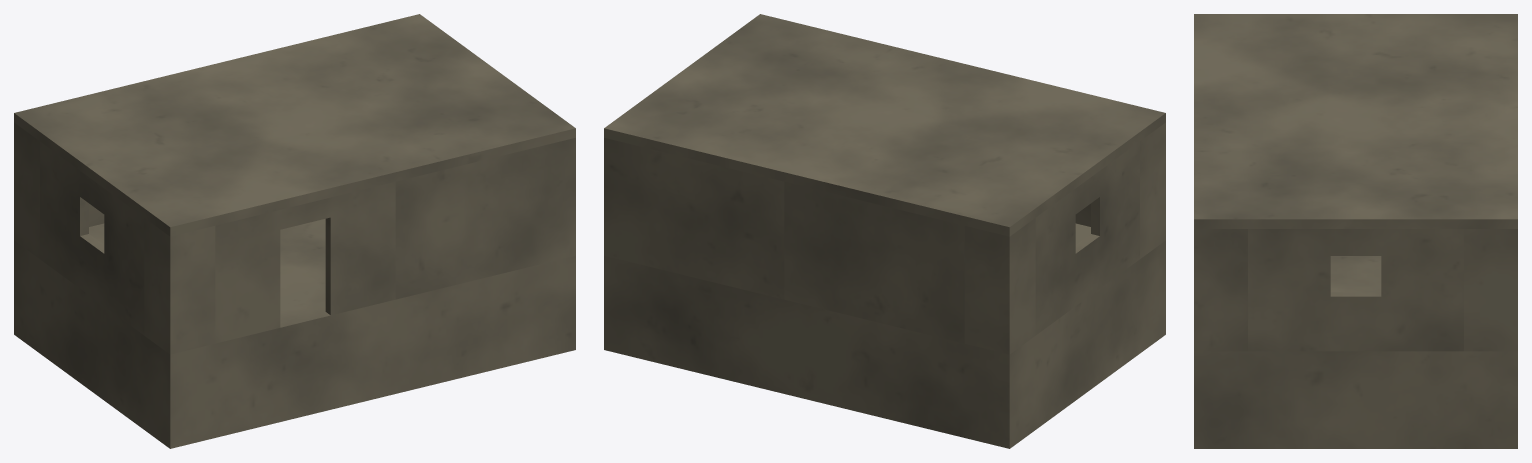
The model's file is House2 1.fbx.
The picture shows the model from 3 angles, left to right: view 1: azimuth 30°, elevation 25°; view 2: azimuth 150°, elevation 25°; view 3: azimuth 270°, elevation 25°; orthographic projection. The views are drawn at different scales.
Parts seen in each view (by area): view 1: Cube.034; view 2: Cube.034; view 3: Cube.034.
Boxes of the visible parts, x1,y1,x2,y2 form: Cube.034: (14,14,575,448); Cube.034: (604,14,1165,448); Cube.034: (1194,14,1517,448).
Size of the model in its own units: 900 by 470 by 600.
